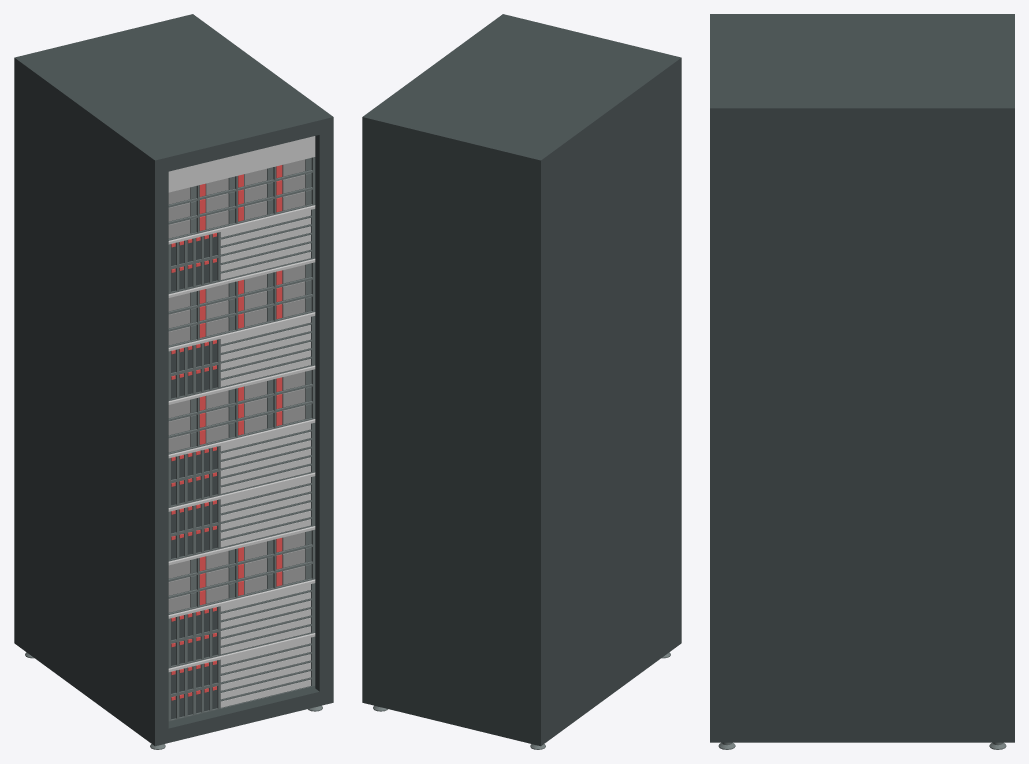
File: Server.glb
The picture shows the model from 3 angles, left to right: view 1: azimuth 30°, elevation 25°; view 2: azimuth 150°, elevation 25°; view 3: azimuth 270°, elevation 25°; orthographic projection. The views are drawn at different scales.
Visible parts, largest first — view 1: server box, teamColor; view 2: server box; view 3: server box.
Part boxes in pixels (left/top/right/bottom): server box: left=14, top=14, right=333, bottom=749; teamColor: left=171, top=165, right=282, bottom=700; server box: left=362, top=14, right=681, bottom=749; server box: left=710, top=14, right=1014, bottom=749.
Bounding box in the file's own units: 0.1496 × 0.4757 × 0.2041.
2 materials, 1 textured.
